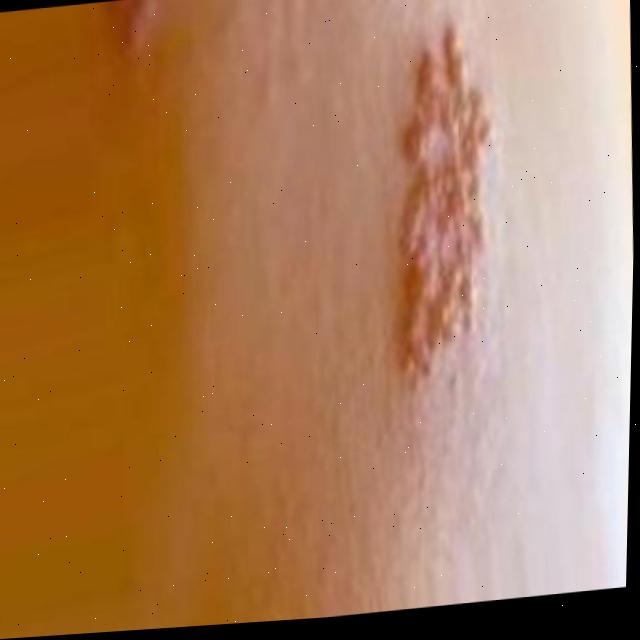Shingles: (381, 18, 508, 391)
